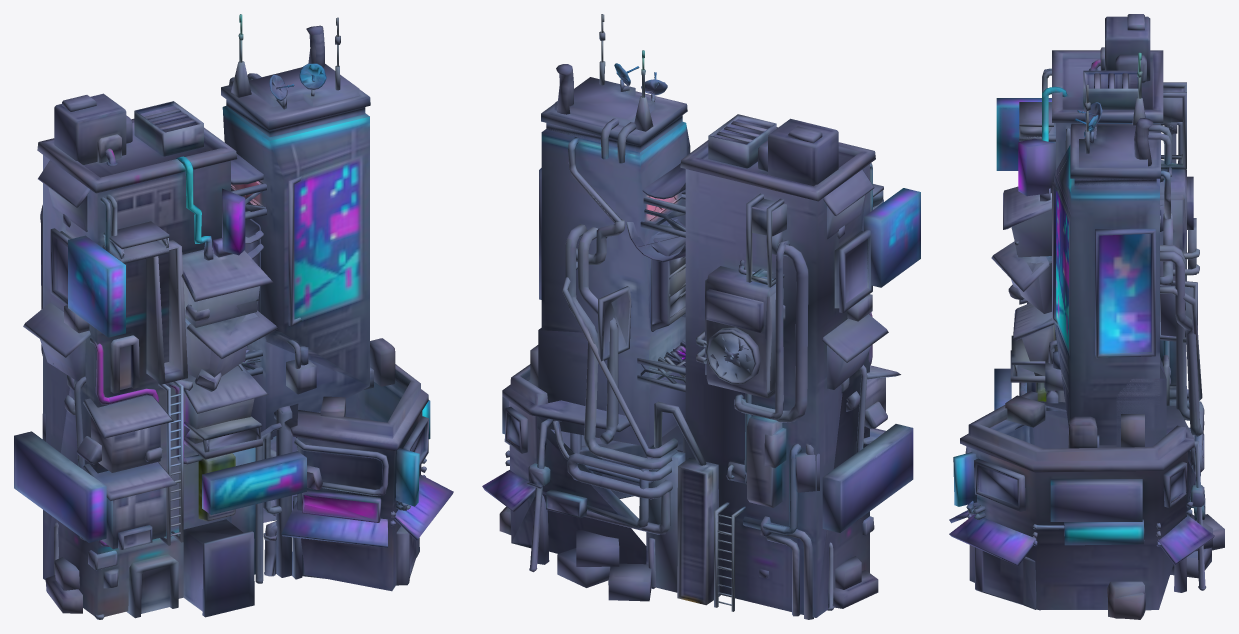
Rendered from city_a.glb.
The picture shows the model from 3 angles, left to right: view 1: azimuth 30°, elevation 25°; view 2: azimuth 150°, elevation 25°; view 3: azimuth 270°, elevation 25°; orthographic projection. The views are drawn at different scales.
Visible parts, largest first — view 1: tripo_node_9ea667eb-3c5f-4a00-a4a0-ea867d4895a2; view 2: tripo_node_9ea667eb-3c5f-4a00-a4a0-ea867d4895a2; view 3: tripo_node_9ea667eb-3c5f-4a00-a4a0-ea867d4895a2.
Part boxes in pixels (x1=…): tripo_node_9ea667eb-3c5f-4a00-a4a0-ea867d4895a2: x1=14, y1=14, x2=453, y2=619; tripo_node_9ea667eb-3c5f-4a00-a4a0-ea867d4895a2: x1=482, y1=14, x2=920, y2=619; tripo_node_9ea667eb-3c5f-4a00-a4a0-ea867d4895a2: x1=949, y1=14, x2=1224, y2=619.
Bounding box in the file's own units: 0.7168 × 0.998 × 0.498.
1 material, 1 textured.
